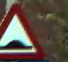Speed Breaker ahead: (0, 0, 43, 60)
